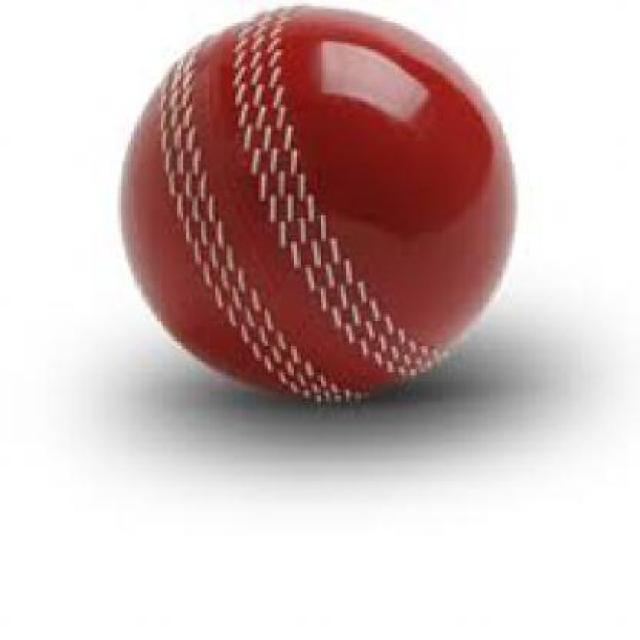Red_Ball: (91, 7, 542, 405)
